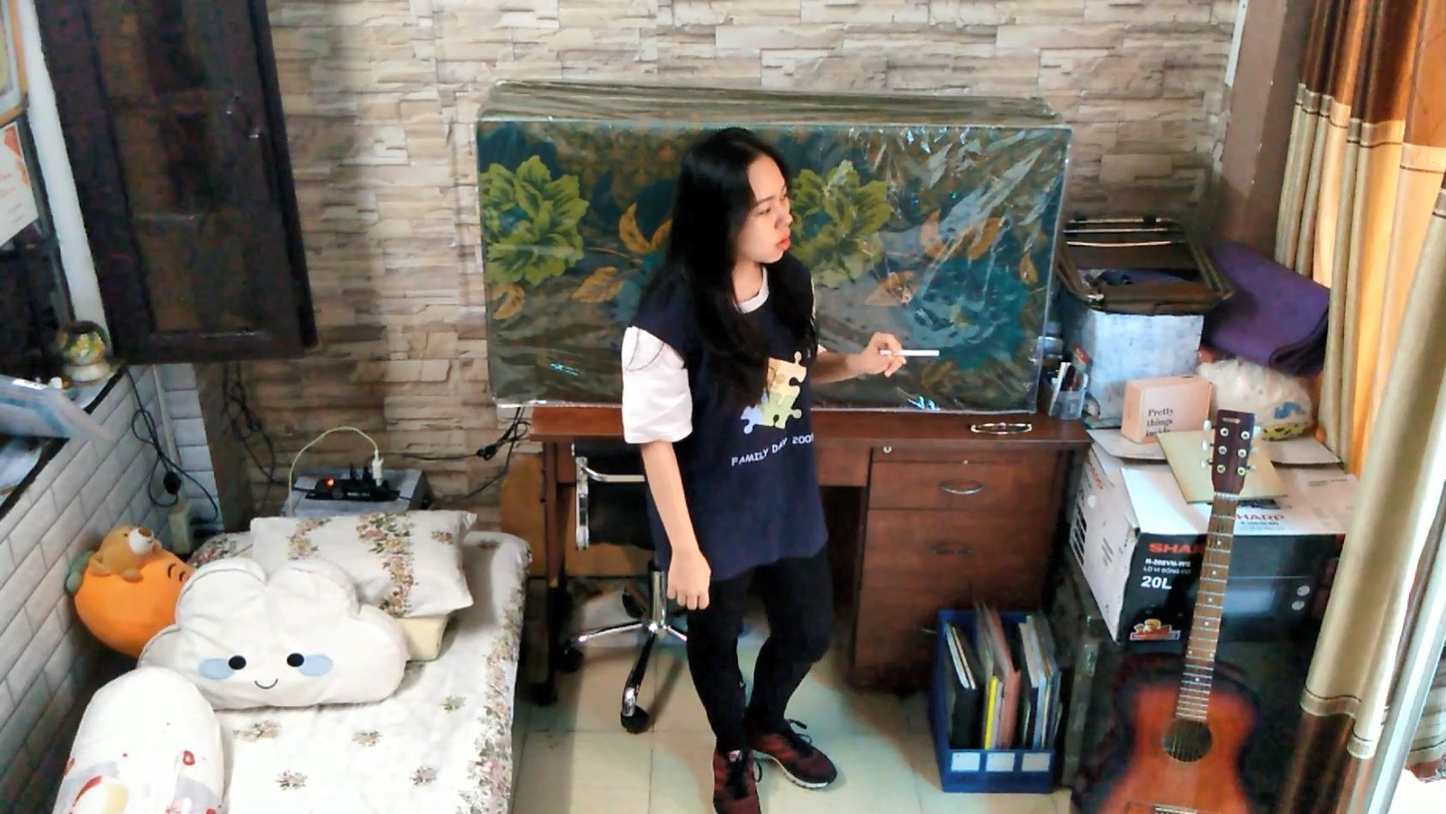cigarette: (877, 332, 941, 365)
person: (597, 111, 944, 814)
